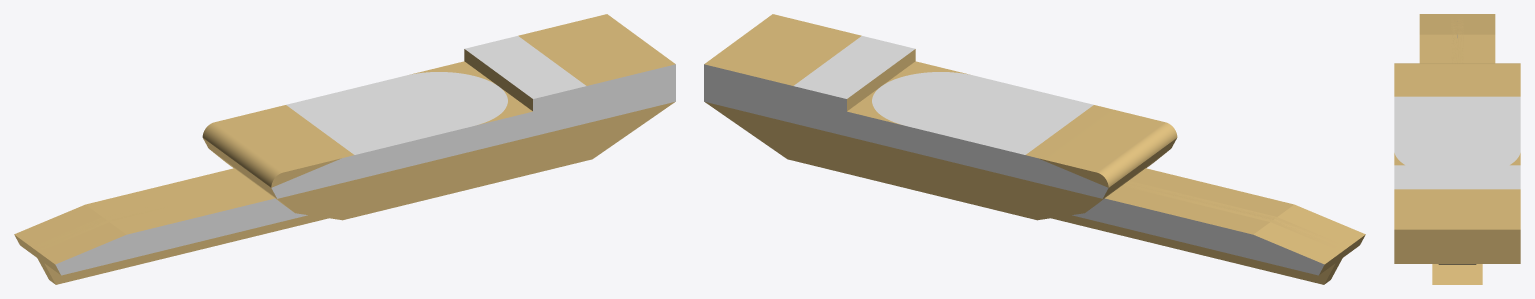
3 views of the same model, side by side, from view 1: azimuth 30°, elevation 25°; view 2: azimuth 150°, elevation 25°; view 3: azimuth 270°, elevation 25° (orthographic). The views are drawn at different scales.
Visible parts, largest first — view 1: chassis_base_m, chassis_base_l, chassis_base_r, chassis_plate_l, chassis_plate_r; view 2: chassis_base_m, chassis_base_r, chassis_base_l, chassis_plate_r, chassis_plate_l; view 3: chassis_base_m, chassis_base_l, chassis_base_r, turret_core, chassis_plate_r, chassis_plate_l.
Boxes of the visible parts, x1=… form: chassis_base_m: x1=202, y1=14, x2=675, y2=220; chassis_base_l: x1=35, y1=183, x2=307, y2=275; chassis_base_r: x1=14, y1=168, x2=253, y2=259; chassis_plate_l: x1=35, y1=183, x2=328, y2=284; chassis_plate_r: x1=31, y1=181, x2=253, y2=281; chassis_base_m: x1=704, y1=14, x2=1177, y2=220; chassis_base_r: x1=1072, y1=183, x2=1344, y2=275; chassis_base_l: x1=1126, y1=168, x2=1365, y2=259; chassis_plate_r: x1=1051, y1=183, x2=1344, y2=284; chassis_plate_l: x1=1126, y1=181, x2=1347, y2=281; chassis_base_m: x1=1394, y1=63, x2=1520, y2=263; chassis_base_l: x1=1419, y1=14, x2=1457, y2=63; chassis_base_r: x1=1457, y1=14, x2=1495, y2=63; turret_core: x1=1432, y1=264, x2=1482, y2=284; chassis_plate_r: x1=1457, y1=14, x2=1463, y2=63; chassis_plate_l: x1=1451, y1=14, x2=1457, y2=63.
Size of the model in its own units: 10.2 by 1.6 by 2.
